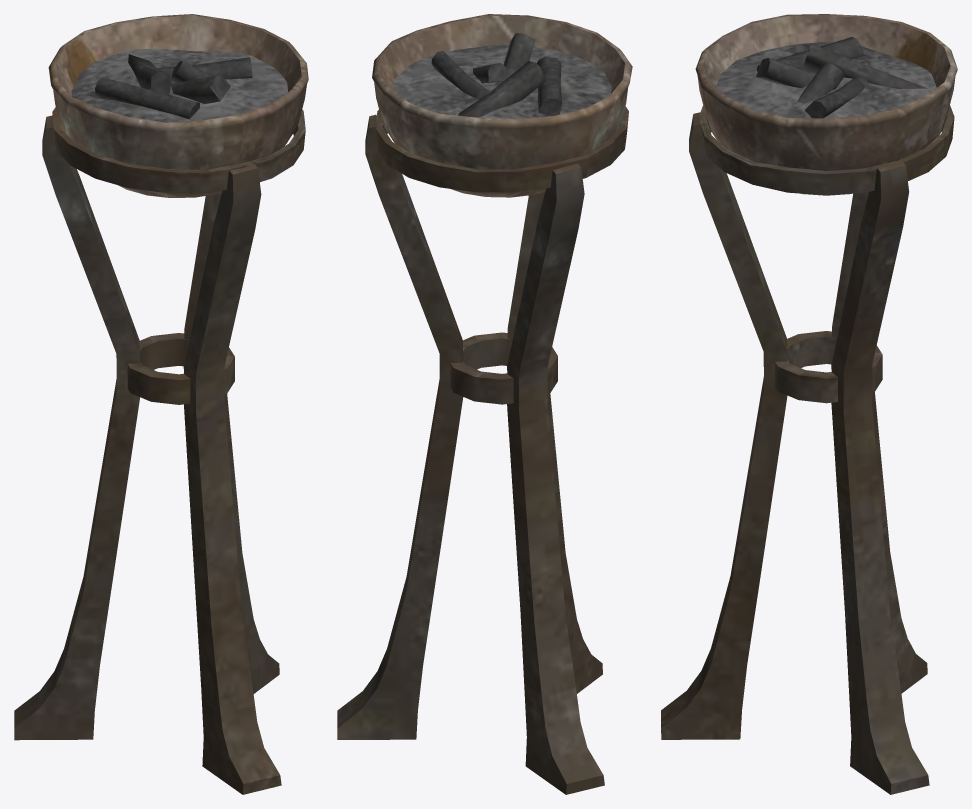
File: VIK_PRO_Brasero_Small_01A_LOD0-transformed.glb
The picture shows the model from 3 angles, left to right: view 1: azimuth 30°, elevation 25°; view 2: azimuth 150°, elevation 25°; view 3: azimuth 270°, elevation 25°; orthographic projection.
Visible parts, largest first — view 1: default; view 2: default; view 3: default.
Part boxes in pixels (bbox=[...]): default: bbox=[14, 14, 308, 794]; default: bbox=[337, 14, 632, 794]; default: bbox=[661, 14, 957, 794].
Bounding box in the file's own units: 0.4218 × 1.02 × 0.4053.
Materials: 3 (3 with a texture image).
